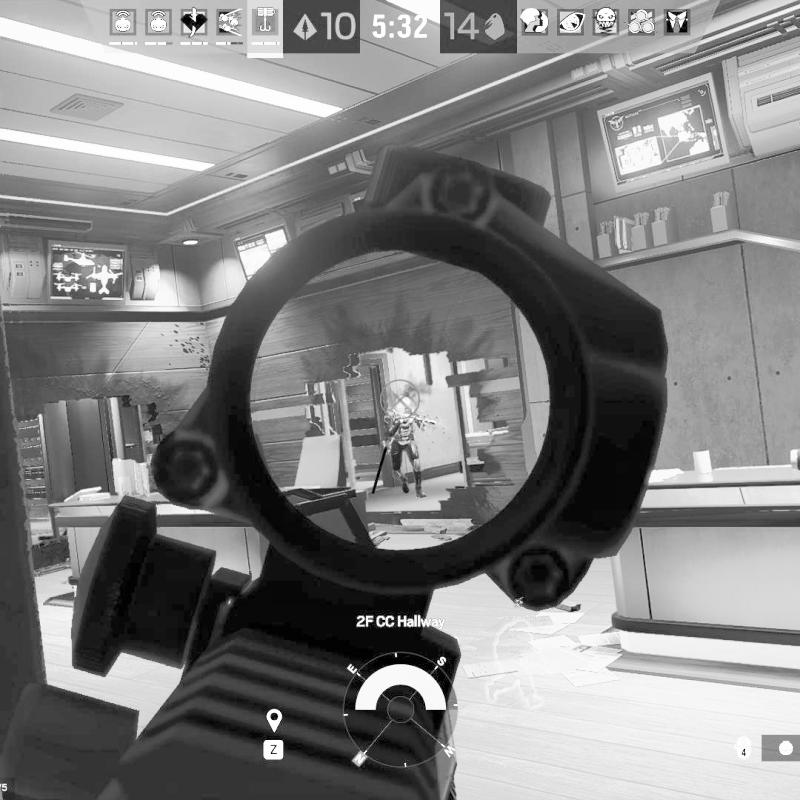Character: (383, 393, 437, 500)
Head: (392, 395, 412, 415)
